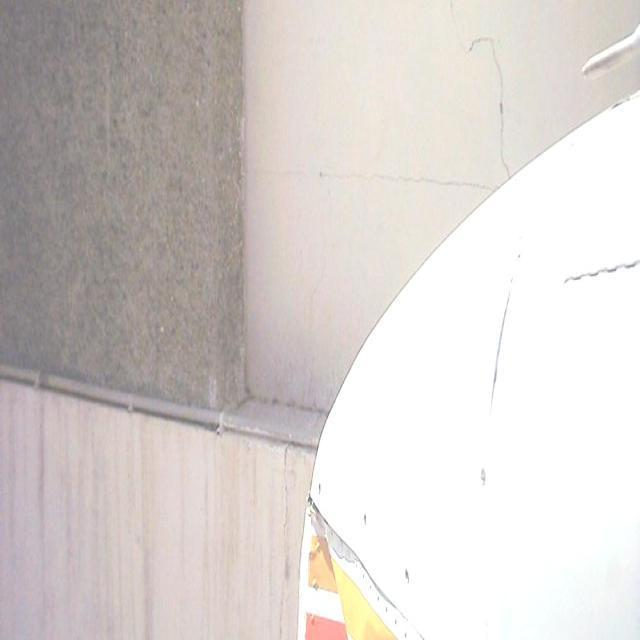dent: (299, 488, 354, 640)
